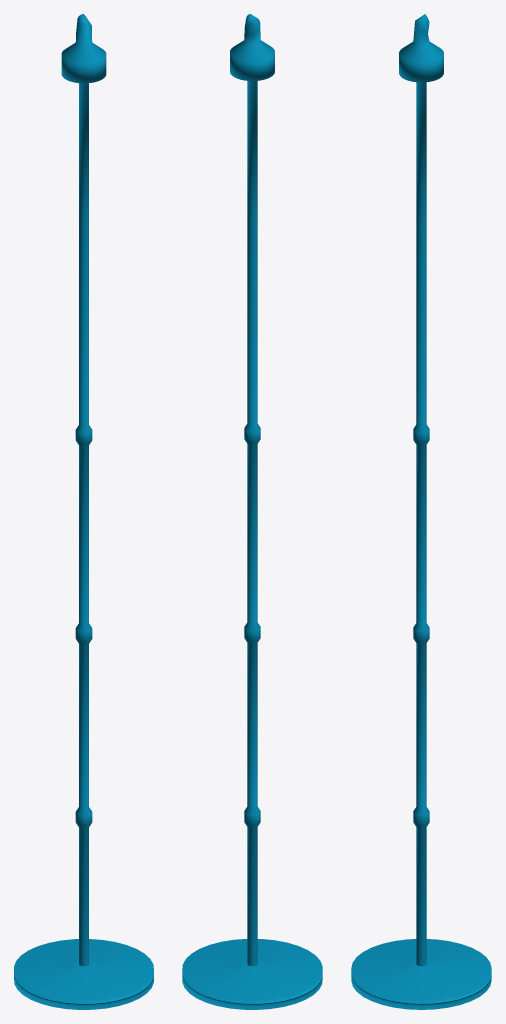
Rendered from DS-KR__b8.3cff755d.glb.
3 renders of one model, left to right at view 1: azimuth 30°, elevation 25°; view 2: azimuth 150°, elevation 25°; view 3: azimuth 270°, elevation 25°, orthographic.
Parts seen in each view (by area): view 1: Cylinder014,_colorize_, Cylinder015,_colorize_; view 2: Cylinder014,_colorize_, Cylinder015,_colorize_; view 3: Cylinder014,_colorize_, Cylinder015,_colorize_.
Part boxes in pixels (x1,y1,x2,y2): Cylinder014,_colorize_: (61,14,106,966); Cylinder015,_colorize_: (14,939,153,1009); Cylinder014,_colorize_: (230,14,274,965); Cylinder015,_colorize_: (182,939,322,1009); Cylinder014,_colorize_: (399,14,443,965); Cylinder015,_colorize_: (351,939,491,1009).
Size of the model in its own units: 0.2972 by 2.26 by 0.2972.
